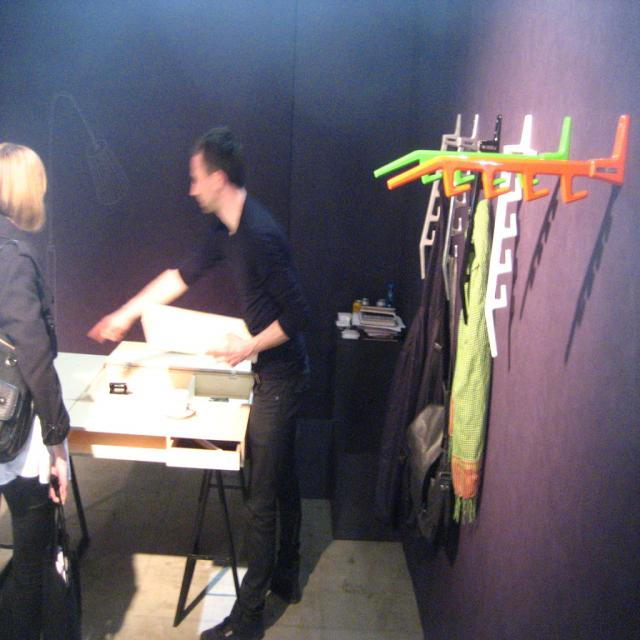desk: (56, 280, 262, 621)
person: (165, 127, 313, 640), (0, 142, 71, 638)
